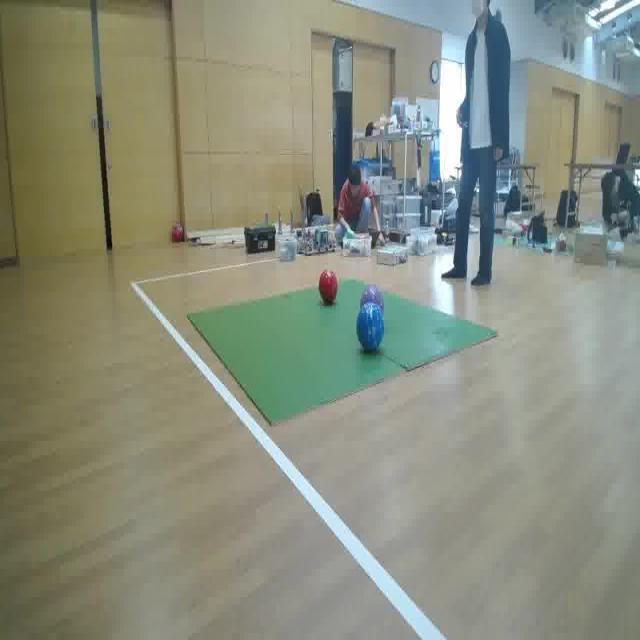blue_ball: (357, 303, 385, 354)
purple_ball: (360, 286, 382, 304)
red_ball: (319, 269, 338, 306)
